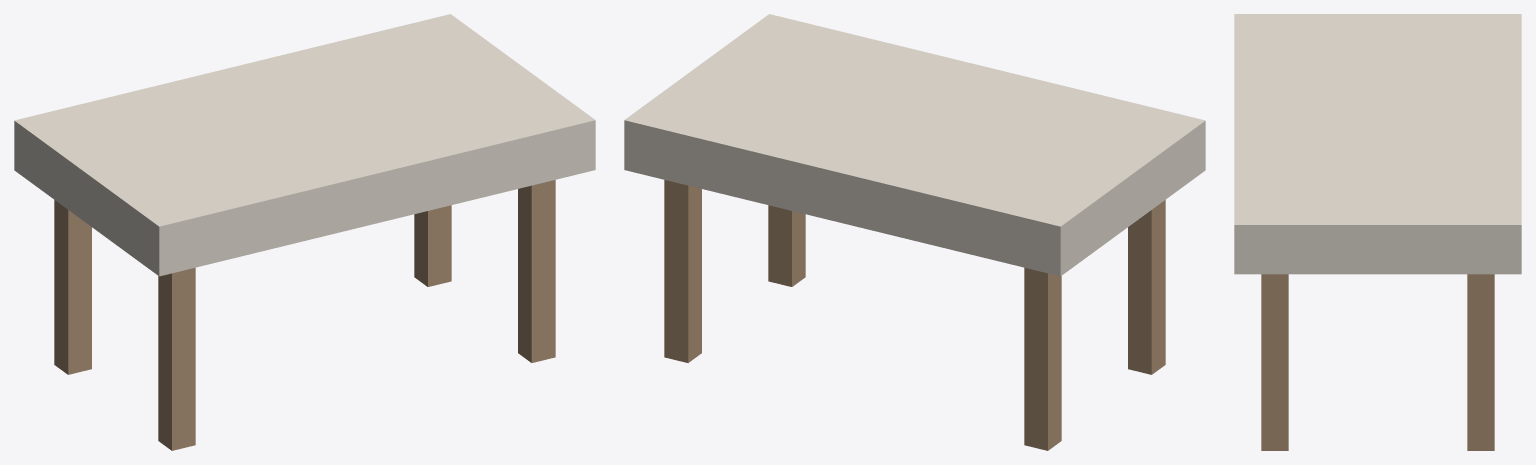
File: sample-table.glb
3 renders of one model, left to right at view 1: azimuth 30°, elevation 25°; view 2: azimuth 150°, elevation 25°; view 3: azimuth 270°, elevation 25°, orthographic.
Parts seen in each view (by area): view 1: tint, frame (×4); view 2: tint, frame (×4); view 3: tint, frame (×2).
Boxes of the visible parts, left/top/right/bottom form: tint: left=14, top=14, right=595, bottom=276; frame (×4): left=54, top=180, right=555, bottom=450; tint: left=624, top=14, right=1205, bottom=276; frame (×4): left=664, top=180, right=1165, bottom=450; tint: left=1234, top=14, right=1521, bottom=274; frame (×2): left=1261, top=274, right=1494, bottom=450.
Size of the model in its own units: 1.65 by 0.87 by 0.95.
